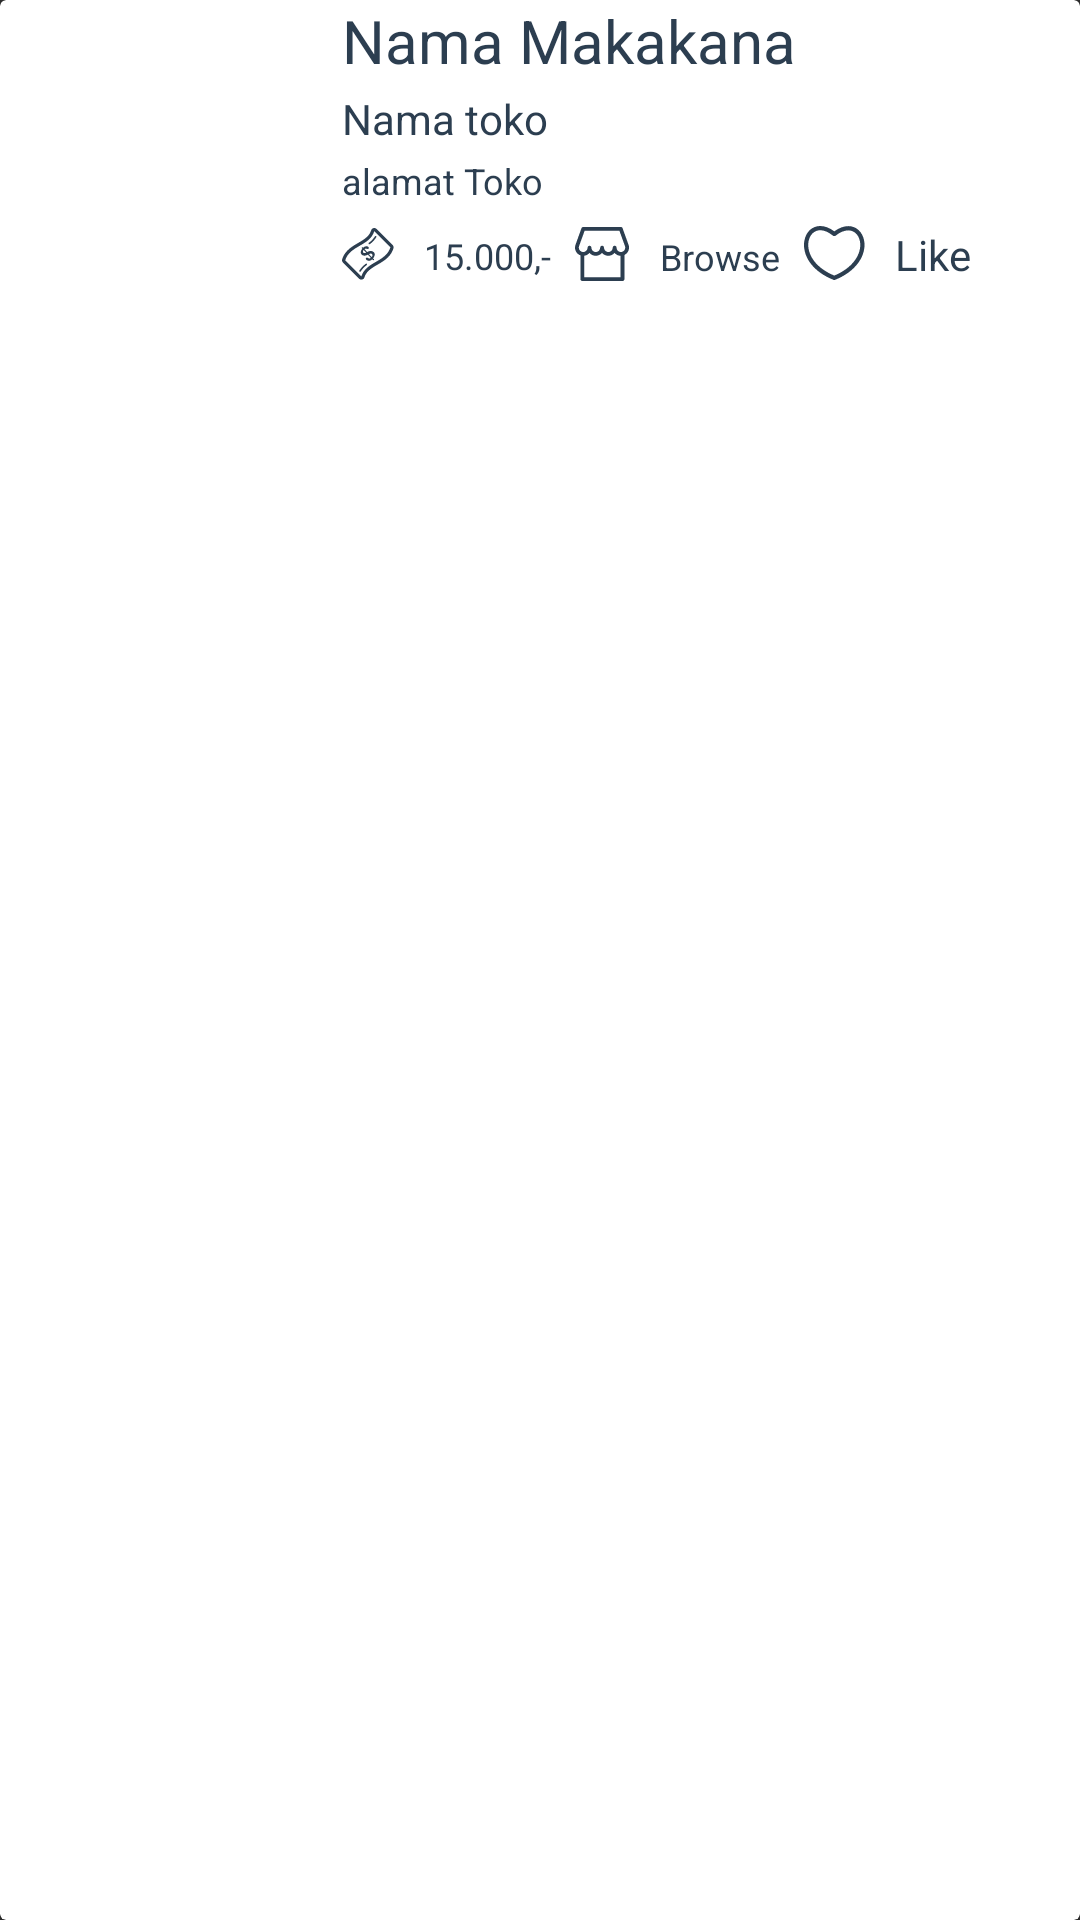

Icon click points for this 1080 × 1920 phone screenshot, format point (x, y):
price: point (368, 254)
store: point (602, 254)
